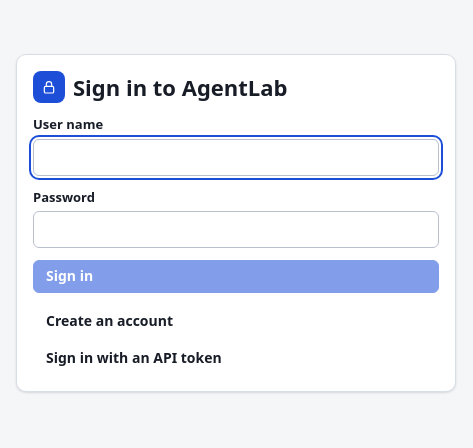
signing in with a user name and password › tells a locked person when to try again
Type "alice" into the field labelled "User name" at (236, 157), box [33,139,439,176]
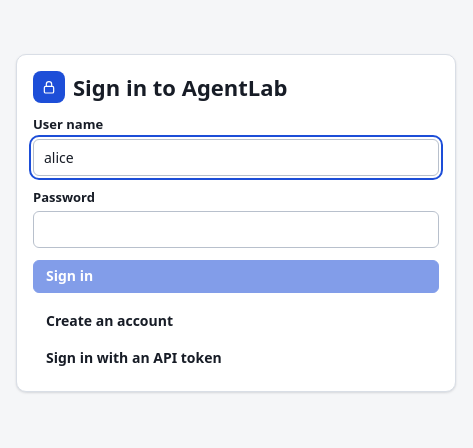
Type "correct-horse-battery-7" into the password field labelled "Password" at (236, 230), box [33,211,439,248]
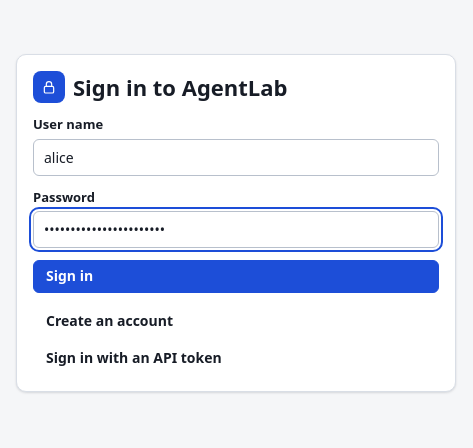
Click the button "Sign in" at (70, 276), box [33,260,439,293]
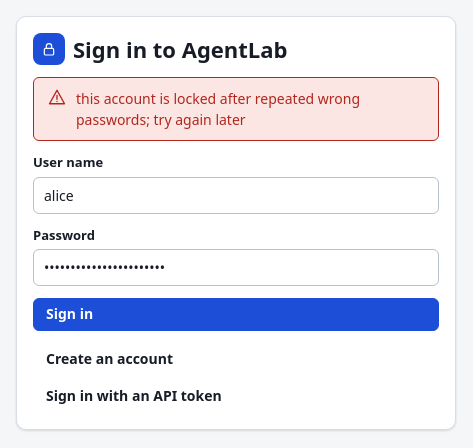
Expected: the text "locked after repeated wrong passwords" is shown, [76,89,360,129]
